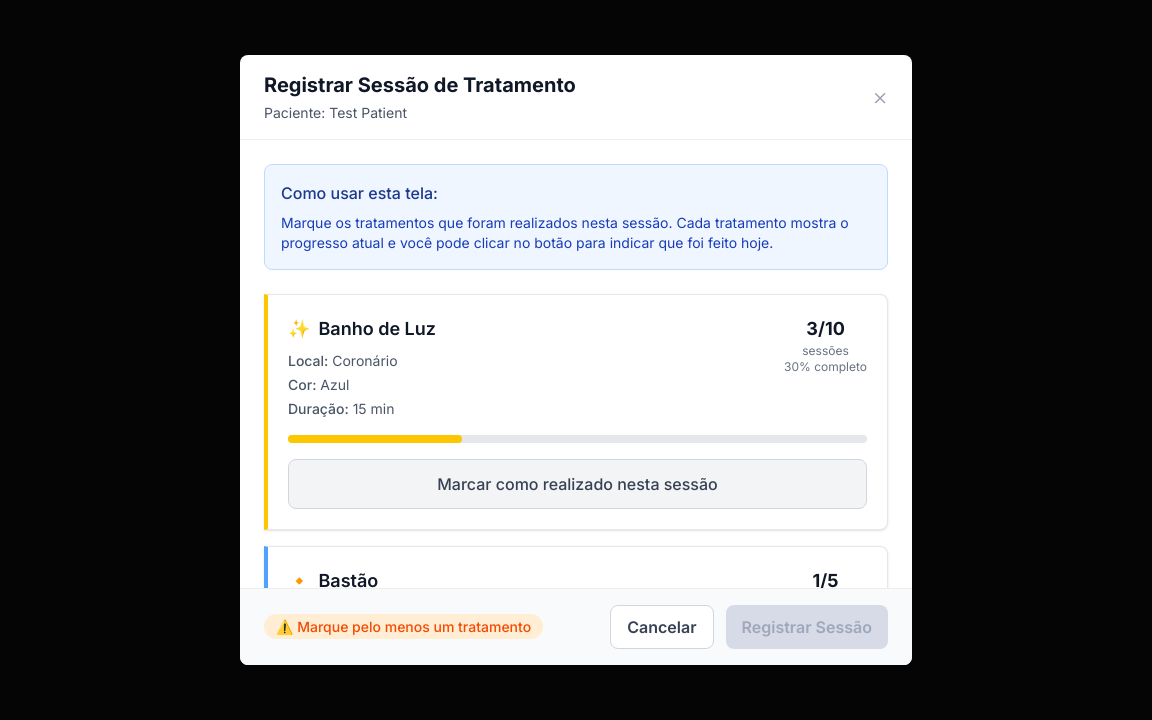
Test: PostTreatmentModal › Treatment Submission › should handle API errors gracefully
The width and height of the screenshot is (1152, 720).
Step 1. Click the button "Marcar como realizado nesta sessão" → (578, 484), box [288,459,867,509]
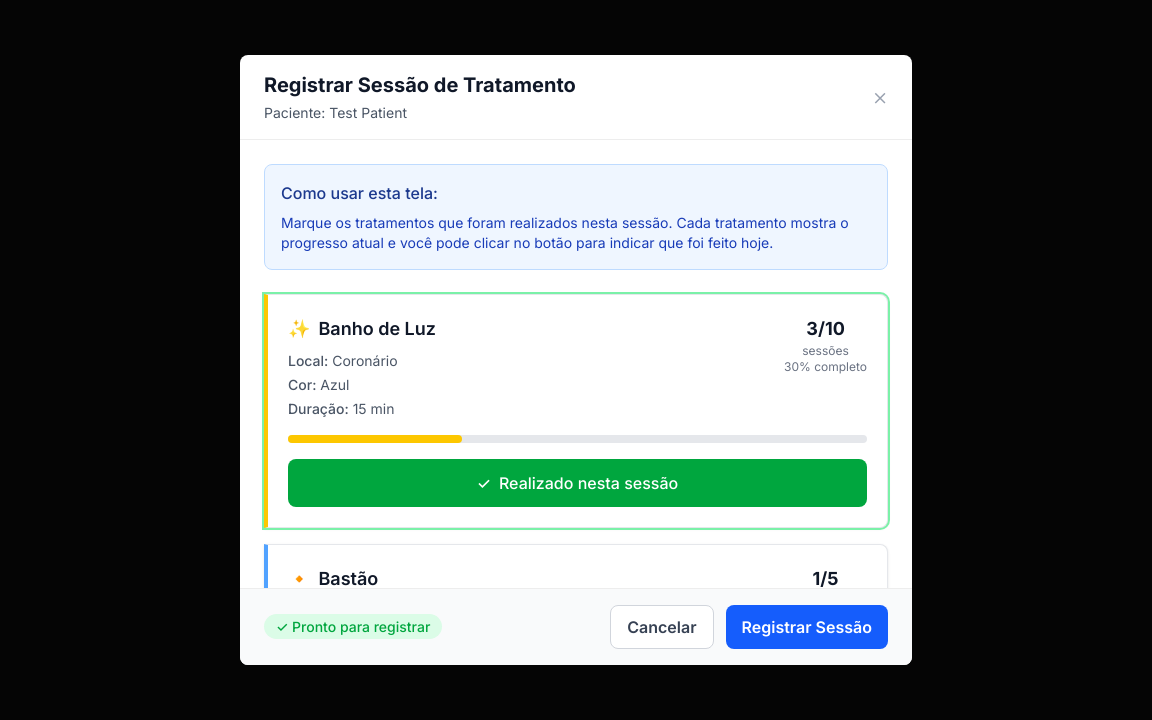
Step 2. Click the button "Registrar Sessão" → (807, 627), box [726,605,888,649]
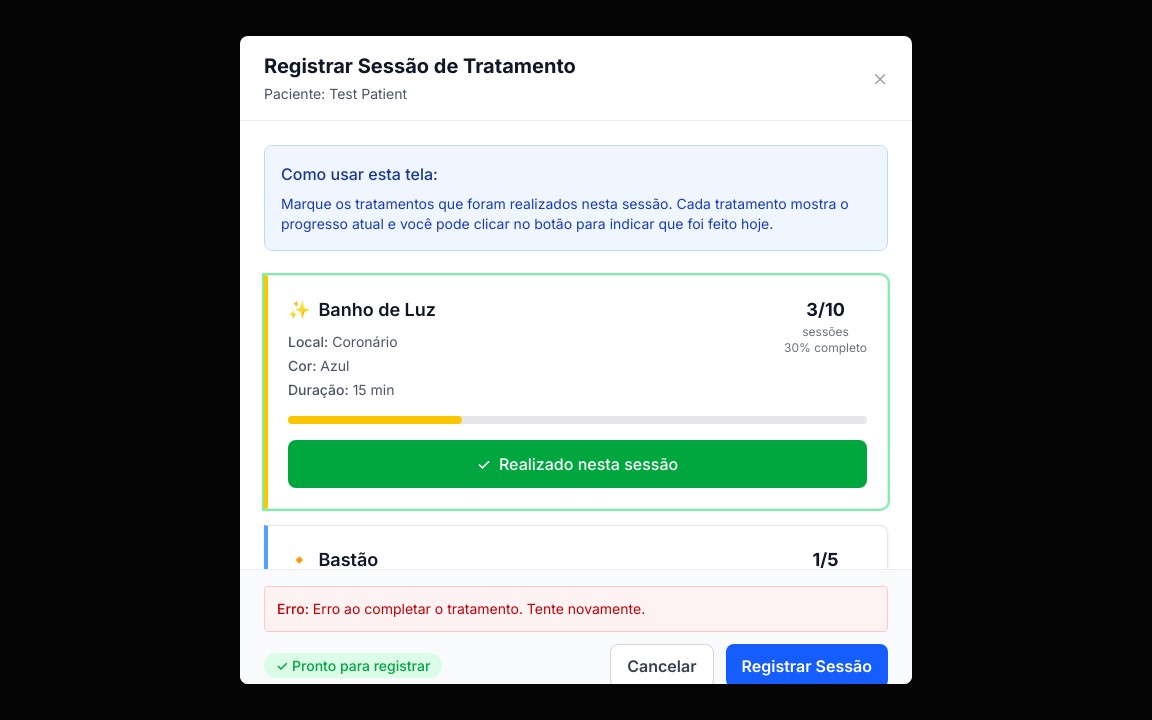
Now the text "Erro: Erro ao completar o tratamento. Tente novamente." is shown, box [264,586,888,632]
